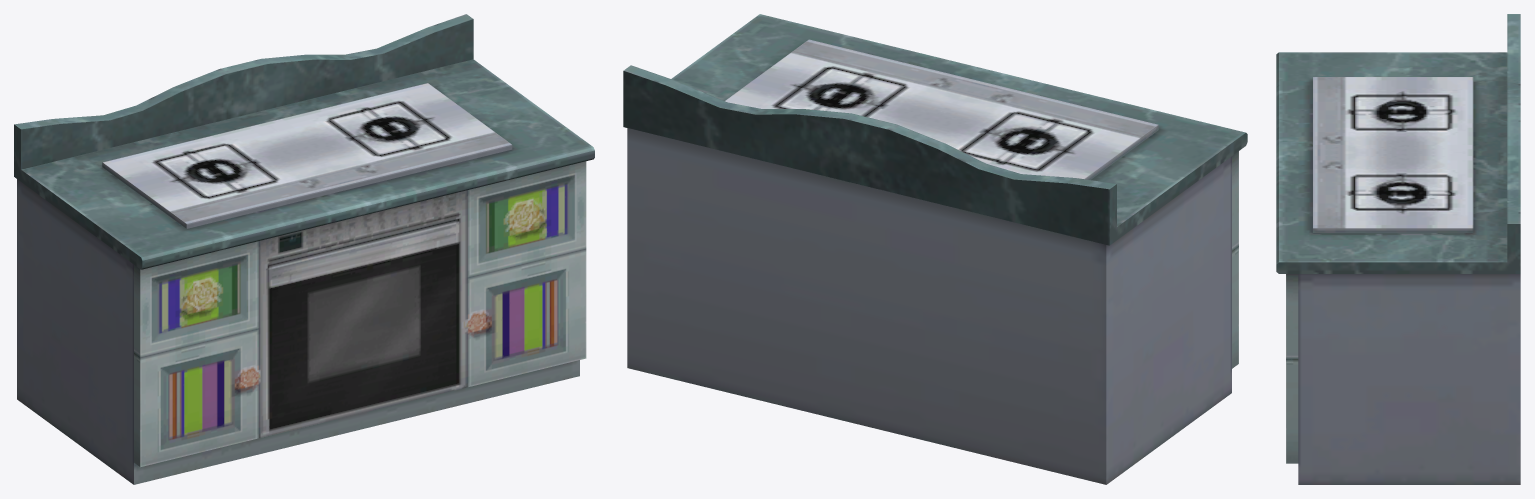
File: furni_0200617_02.FBX
The picture shows the model from 3 angles, left to right: view 1: azimuth 30°, elevation 25°; view 2: azimuth 150°, elevation 25°; view 3: azimuth 270°, elevation 25°; orthographic projection. The views are drawn at different scales.
Visible parts, largest first — view 1: furni_0200617_02; view 2: furni_0200617_02; view 3: furni_0200617_02.
Part boxes in pixels (bbox=[...]): furni_0200617_02: bbox=[14, 14, 594, 484]; furni_0200617_02: bbox=[623, 14, 1247, 484]; furni_0200617_02: bbox=[1276, 14, 1520, 484].
Bounding box in the file's own units: 163 × 96.53 × 79.84.
1 material, 1 textured.
